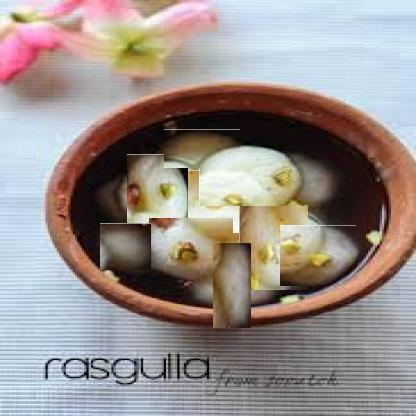rasgulla: (231, 195, 317, 282), (199, 144, 304, 206), (180, 170, 266, 233), (149, 218, 233, 276), (280, 225, 356, 286), (124, 157, 191, 224), (201, 254, 263, 316), (164, 129, 240, 168), (286, 153, 342, 205), (100, 223, 152, 270)
